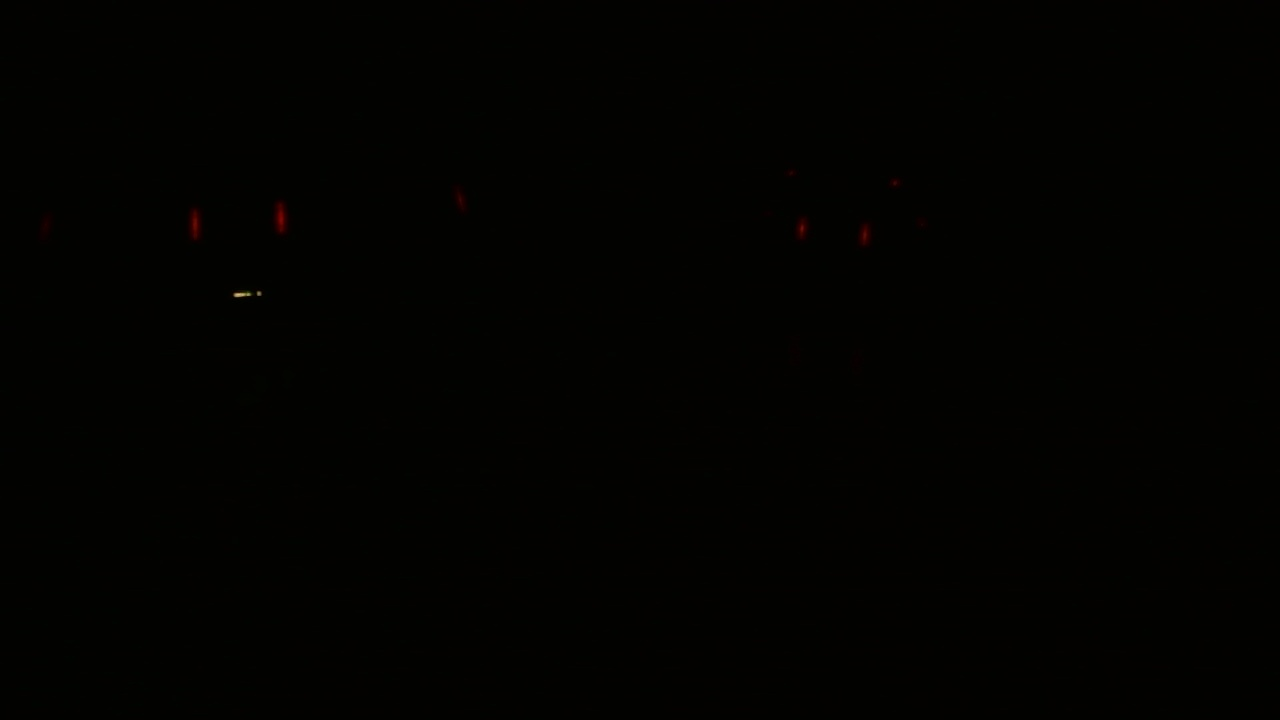pair1: (187, 196, 296, 249)
pair2: (787, 213, 881, 256)
